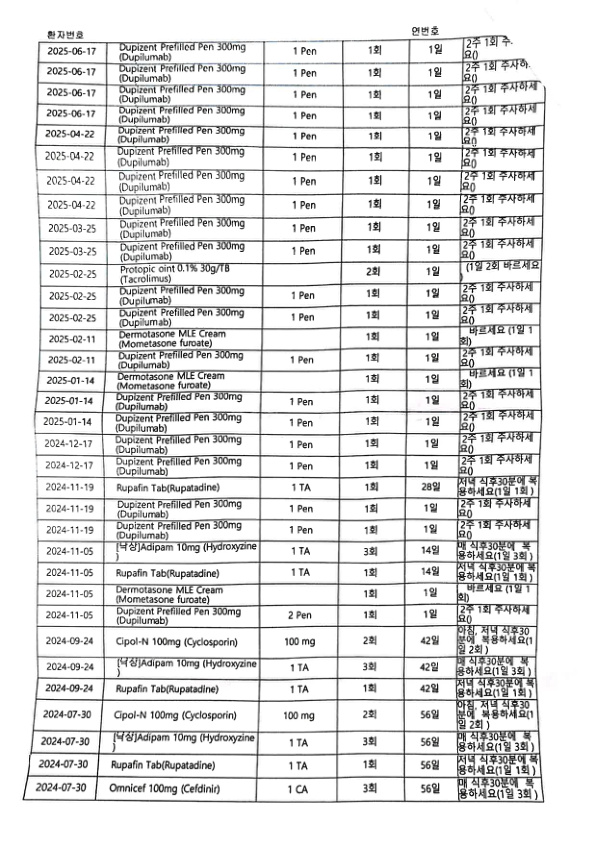row: (36, 700, 539, 732), (38, 627, 536, 656), (29, 776, 544, 804), (35, 169, 547, 195), (34, 146, 545, 172), (35, 125, 545, 149), (32, 754, 542, 778), (36, 104, 545, 128), (34, 731, 539, 755), (35, 194, 543, 217), (37, 38, 541, 61), (39, 217, 543, 240), (40, 240, 542, 263), (38, 477, 539, 500), (39, 306, 543, 328), (37, 433, 539, 455), (37, 455, 539, 477), (37, 542, 539, 564), (37, 562, 539, 584), (37, 584, 537, 606), (37, 83, 547, 104), (35, 412, 541, 433), (37, 521, 540, 542), (37, 679, 538, 700), (39, 500, 539, 521), (37, 606, 537, 627), (37, 63, 547, 83), (37, 392, 541, 412), (39, 263, 541, 283), (39, 328, 540, 348), (37, 658, 537, 678), (39, 349, 541, 368), (40, 286, 541, 304), (38, 372, 541, 389)
